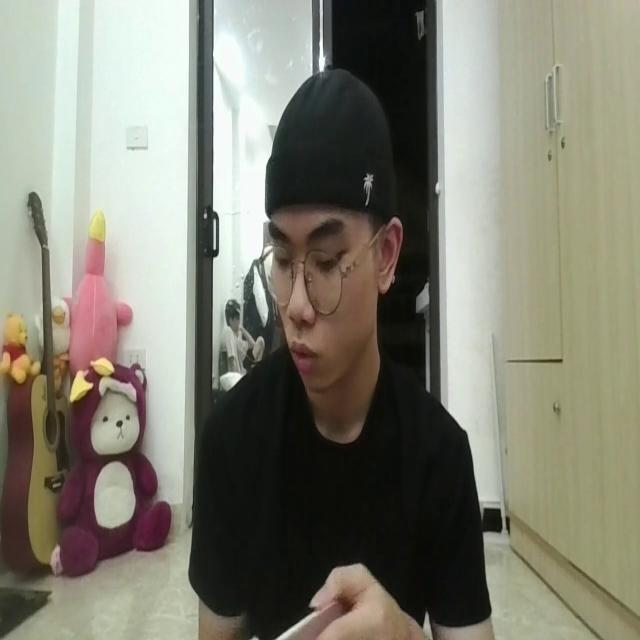student: (196, 62, 494, 640)
